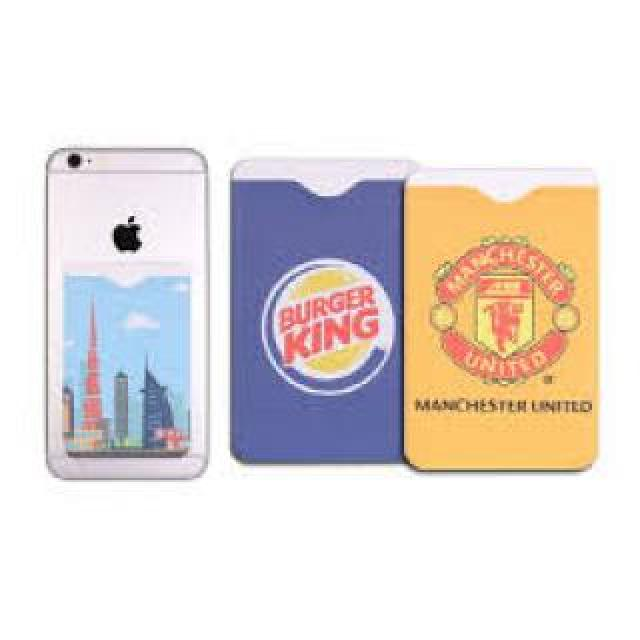tablet: (43, 128, 212, 524)
